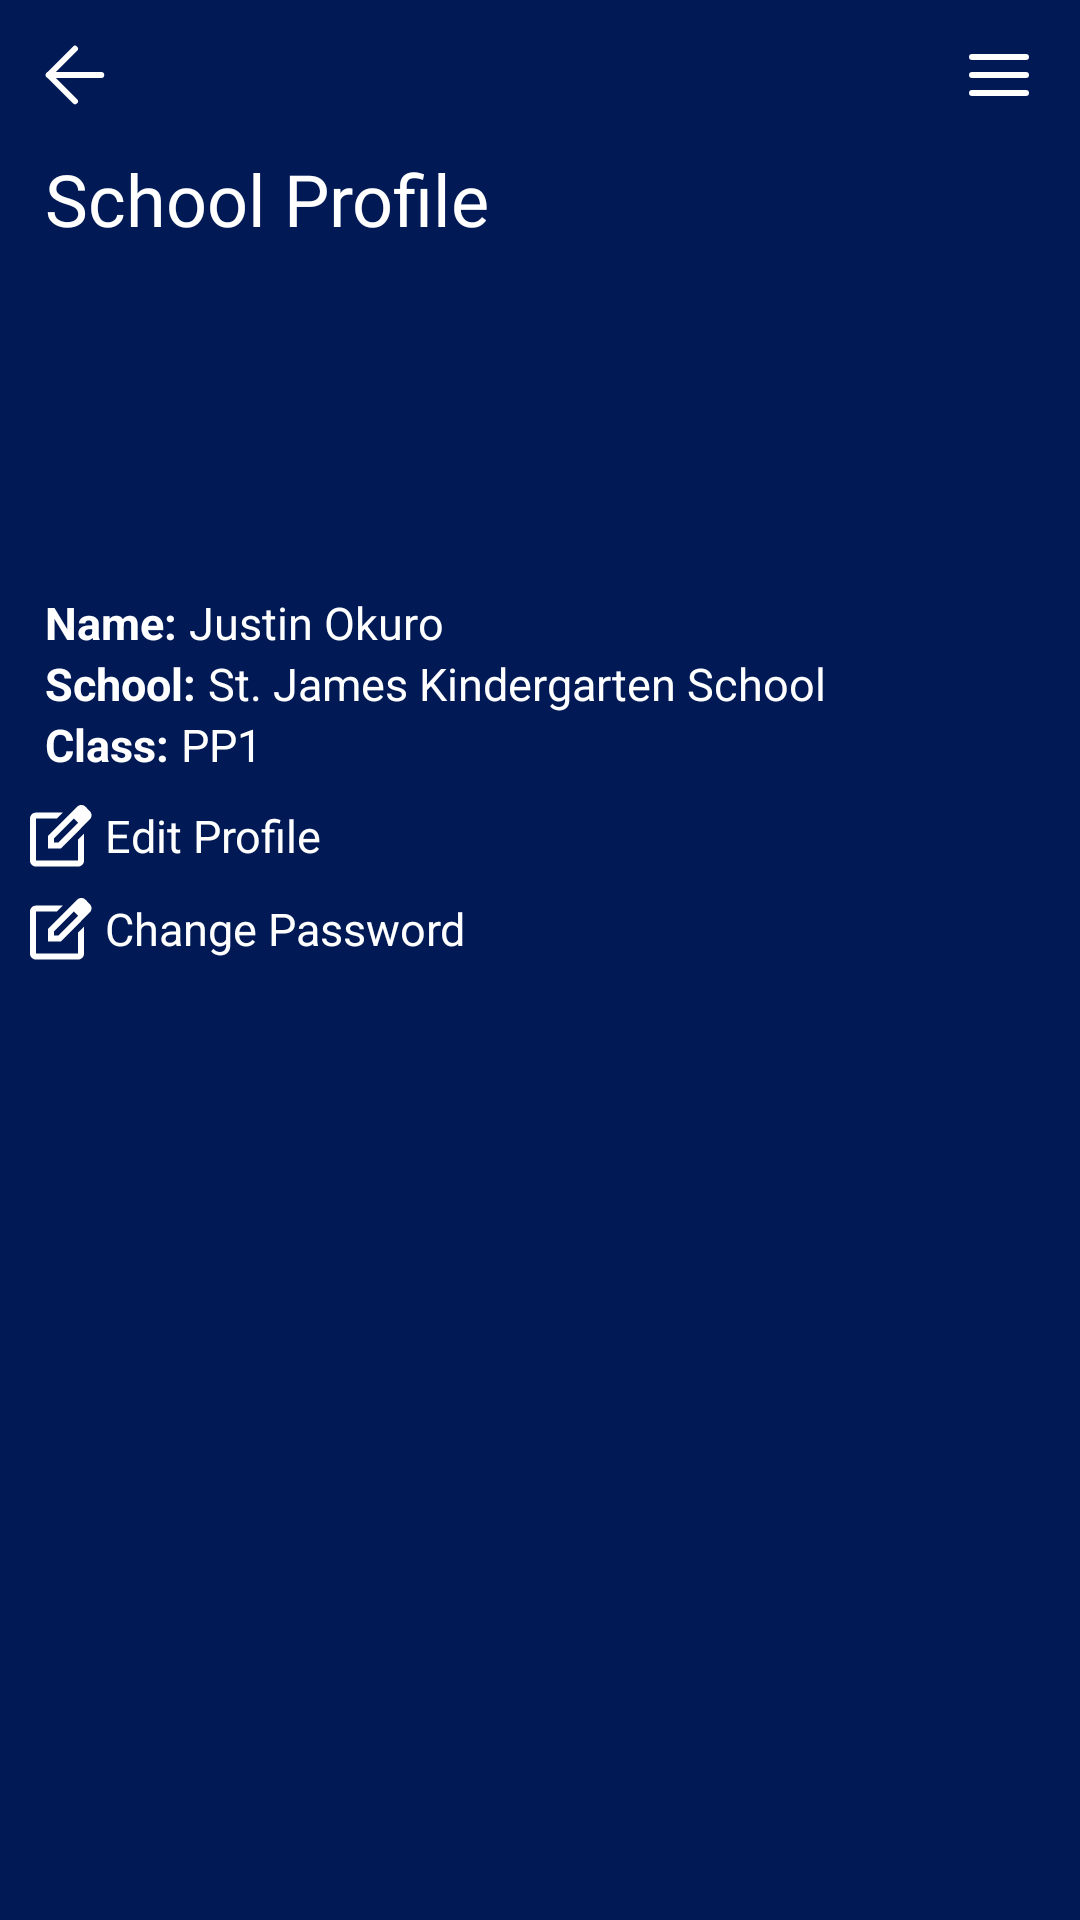

Icon click points for this 1080px x 1920px phone screenshot, format point (x, y):
arrow: point (75, 75)
menu: point (999, 75)
